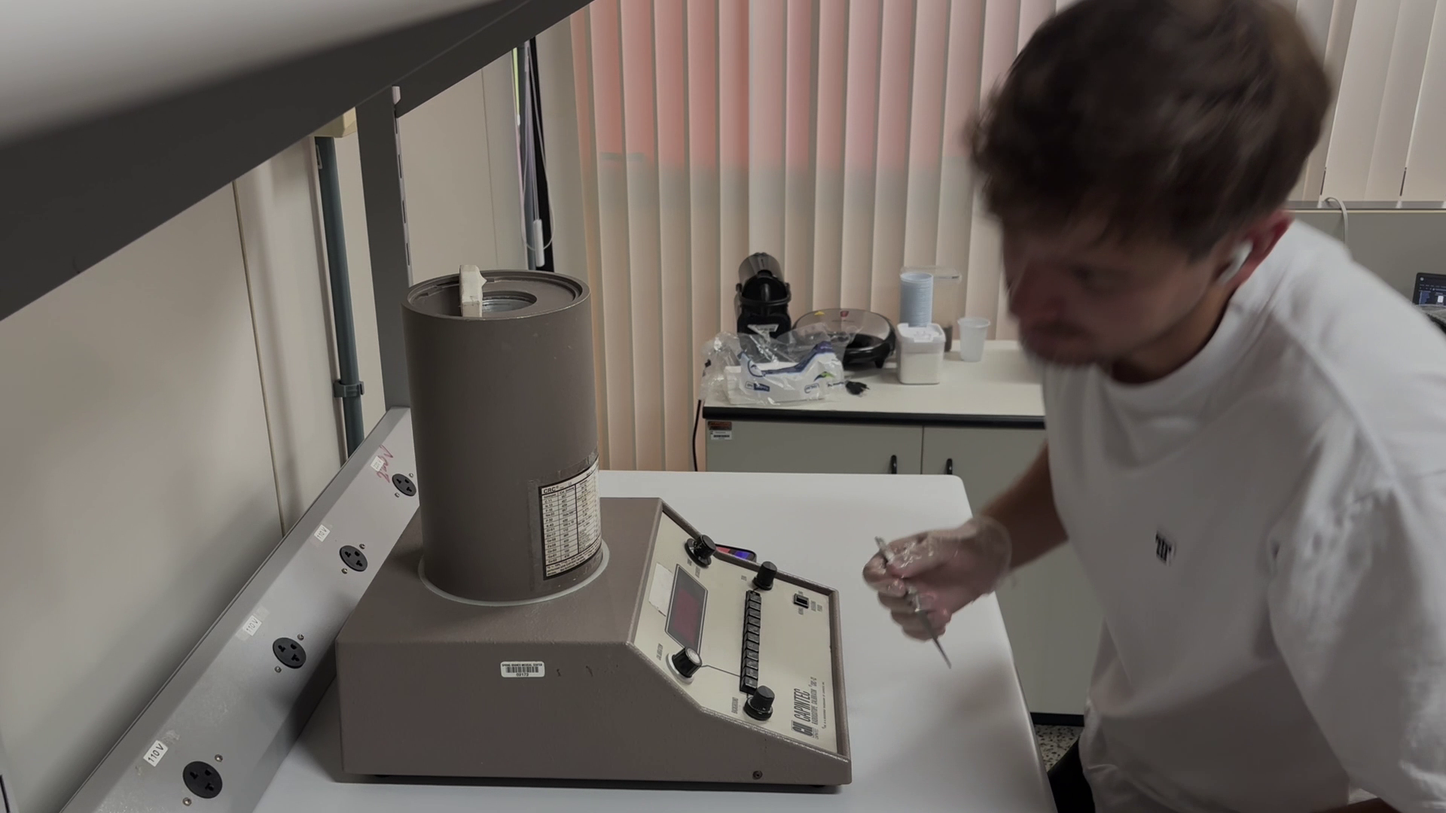Ativimetro: (398, 267, 609, 606)
Com_Luva: (860, 513, 1027, 641)
